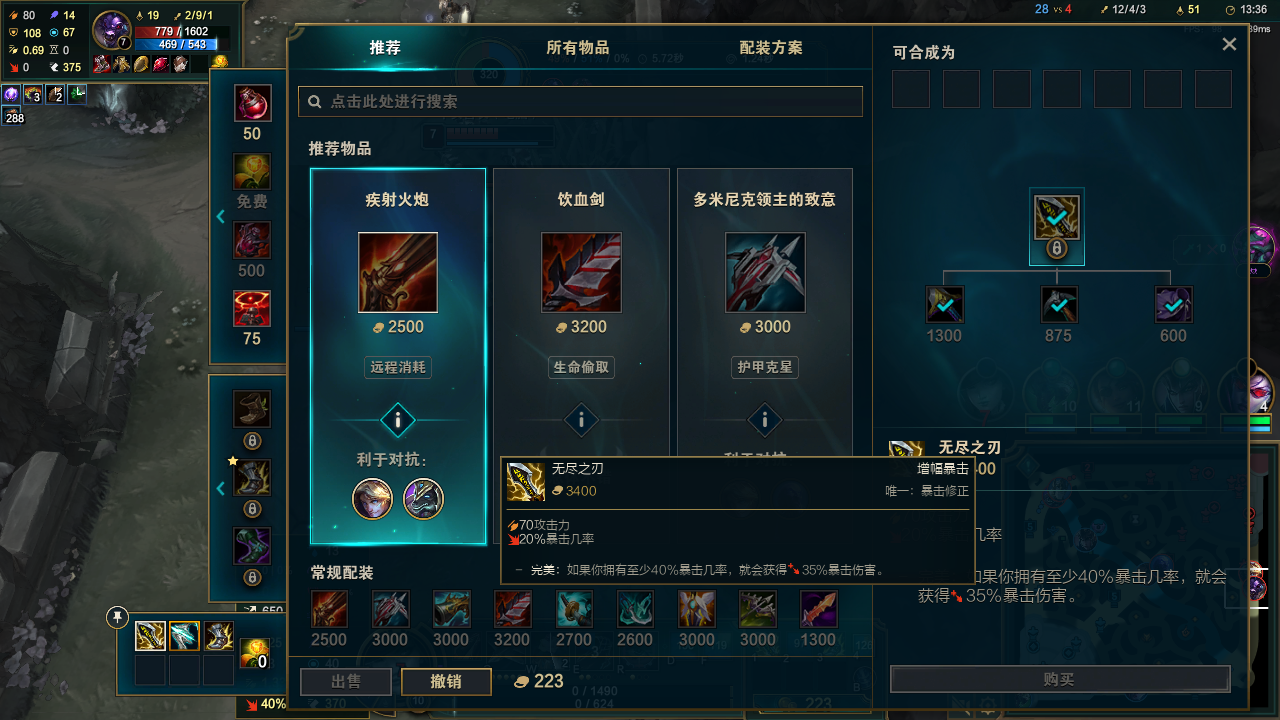GTH: (719, 398, 801, 441), (548, 400, 613, 437)
TJGTH: (308, 401, 488, 441)
TJJM: (335, 35, 440, 78)
